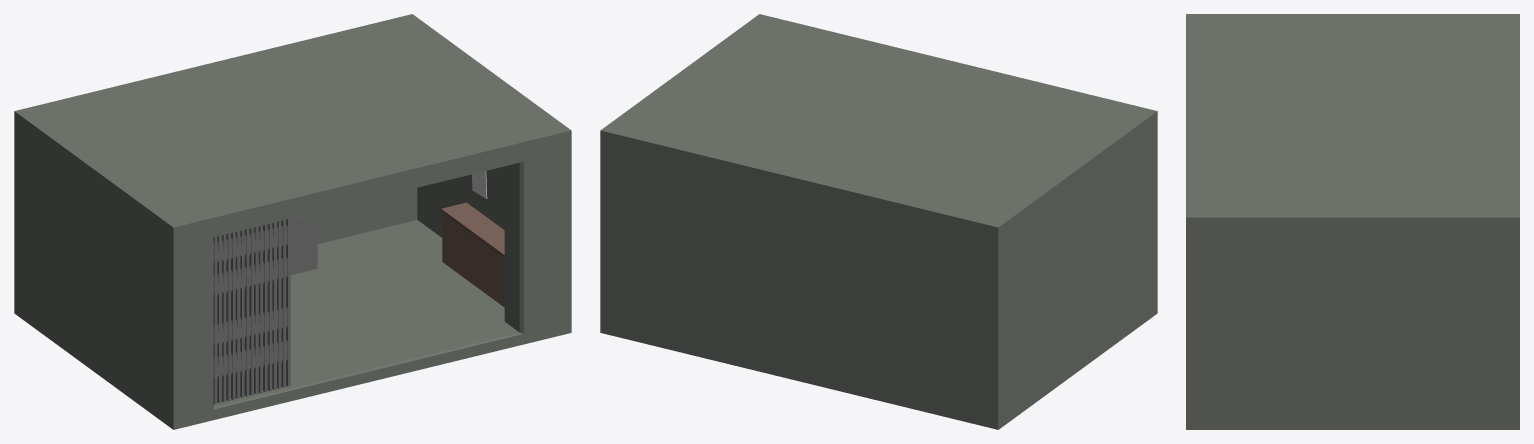
File: Elevator(NotBroken).fbx
3 renders of one model, left to right at view 1: azimuth 30°, elevation 25°; view 2: azimuth 150°, elevation 25°; view 3: azimuth 270°, elevation 25°, orthographic. The views are drawn at different scales.
Visible parts, largest first — view 1: Body, GateCloses, StorageCabinet, MainBlock; view 2: Body; view 3: Body.
Part boxes in pixels (x1,y1,x2,y2): Body: (14,14,571,429); GateCloses: (213,218,290,404); StorageCabinet: (440,202,504,307); MainBlock: (290,216,317,274); Body: (600,14,1157,429); Body: (1186,14,1519,429).
Size of the model in its own units: 3362 by 1633 by 2328.
